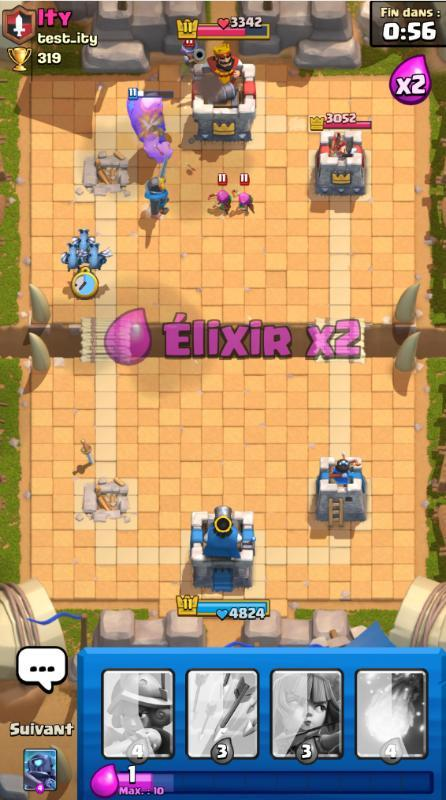archere: (231, 172, 255, 217), (207, 173, 231, 215)
chevalier: (143, 154, 170, 220)
gargouille: (80, 243, 113, 271), (71, 229, 96, 255), (60, 242, 81, 271)
geant: (127, 88, 173, 163)
mousquetaire: (180, 39, 206, 84)
